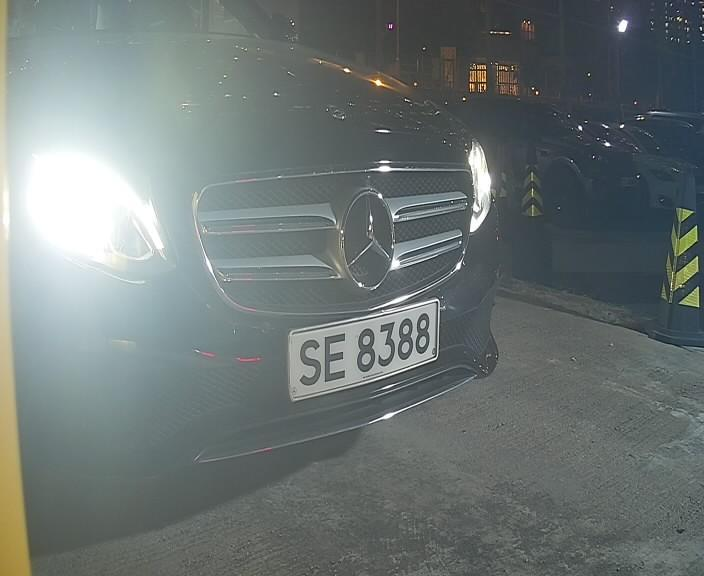privatecar: (13, 6, 522, 507)
